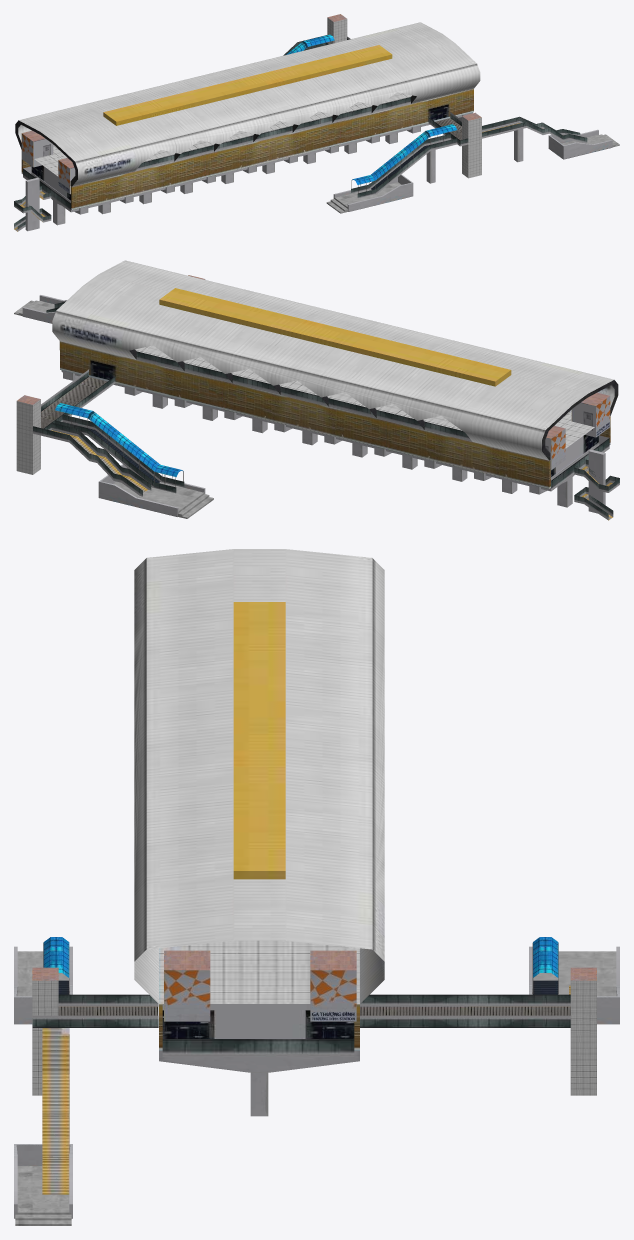
The picture shows the model from 3 angles, top to bottom: view 1: azimuth 30°, elevation 25°; view 2: azimuth 150°, elevation 25°; view 3: azimuth 270°, elevation 25°; orthographic projection. The views are drawn at different scales.
Visible parts, largest first — view 1: HN1259___Thuong_Dinh_Metro_Station; view 2: HN1259___Thuong_Dinh_Metro_Station; view 3: HN1259___Thuong_Dinh_Metro_Station.
Boxes of the visible parts, x1,y1,x2,y2 form: HN1259___Thuong_Dinh_Metro_Station: (14, 14, 619, 231); HN1259___Thuong_Dinh_Metro_Station: (14, 260, 619, 520); HN1259___Thuong_Dinh_Metro_Station: (14, 549, 619, 1225).
Size of the model in its own units: 134 by 22.19 by 65.37.
1 material, 1 textured.
